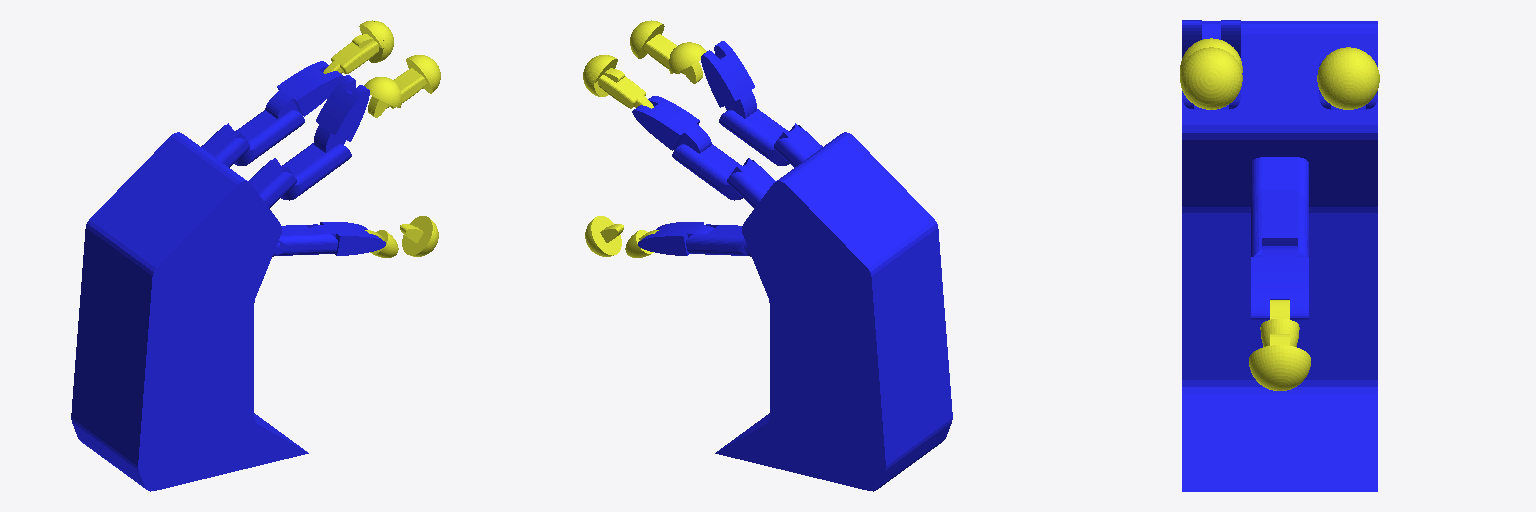
The robot description file, URDF, robot "dexterous":
<?xml version="1.0" encoding="utf-8"?>
<!-- This URDF was automatically created by SolidWorks to URDF Exporter! Originally created by [author] ([email redacted]) 
     Commit Version: 1.6.0-4-g7f85cfe  Build Version: 1.6.7995.38578
     For more information, please see http://wiki.ros.org/sw_urdf_exporter -->
<robot
  name="dexterous">
  <link
    name="base_link">
    <inertial>
      <origin
        xyz="-0.0957355123457233 -9.33844645680804E-05 0.454079173572236"
        rpy="0 0 0" />
      <mass
        value="225.175136389995" />
      <inertia
        ixx="23.9107053609577"
        ixy="0.019113829505406"
        ixz="-2.38705549230706"
        iyy="24.277742757271"
        iyz="0.0443441796689224"
        izz="9.91091787540998" />
    </inertial>
    <visual>
      <origin
        xyz="0 0 0"
        rpy="0 0 0" />
      <geometry>
        <mesh
          filename="package://dexterous/meshes/base_link.STL" />
      </geometry>
      <material
        name="">
        <color
          rgba="0.188235294117647 0.203921568627451 1 1" />
      </material>
    </visual>
    <collision>
      <origin
        xyz="0 0 0"
        rpy="0 0 0" />
      <geometry>
        <mesh
          filename="package://dexterous/meshes/base_link.STL" />
      </geometry>
    </collision>
  </link>
  <link
    name="finger_1">
    <inertial>
      <origin
        xyz="0.058211400276605 3.76936423740482E-08 8.73444794269318E-08"
        rpy="0 0 0" />
      <mass
        value="2.62291217240702" />
      <inertia
        ixx="0.0059915016755219"
        ixy="2.23180711965421E-08"
        ixz="1.35200392851684E-08"
        iyy="0.0153590445392389"
        iyz="-1.69514000170245E-07"
        izz="0.0188065584655924" />
    </inertial>
    <visual>
      <origin
        xyz="0 0 0"
        rpy="0 0 0" />
      <geometry>
        <mesh
          filename="package://dexterous/meshes/finger_1.STL" />
      </geometry>
      <material
        name="">
        <color
          rgba="0.188235294117647 0.203921568627451 1 1" />
      </material>
    </visual>
    <collision>
      <origin
        xyz="0 0 0"
        rpy="0 0 0" />
      <geometry>
        <mesh
          filename="package://dexterous/meshes/finger_1.STL" />
      </geometry>
    </collision>
  </link>
  <joint
    name="fin1"
    type="revolute">
    <origin
      xyz="0.292117822710978 0.175 1.14406683612052"
      rpy="-3.14159265358979 -0.434081521732677 0" />
    <parent
      link="base_link" />
    <child
      link="finger_1" />
    <axis
      xyz="0 0 1" />
    <limit
      lower="-1"
      upper="1"
      effort="0"
      velocity="0" />
  </joint>
  <link
    name="finger_1_1">
    <inertial>
      <origin
        xyz="0.109229658566421 -1.08218189409648E-07 2.77427967543264E-07"
        rpy="0 0 0" />
      <mass
        value="2.39969201778968" />
      <inertia
        ixx="0.00501927352597898"
        ixy="-1.63973205559399E-08"
        ixz="-2.28348034184707E-08"
        iyy="0.0157115159697322"
        iyz="1.57050948514169E-09"
        izz="0.0126581692982653" />
    </inertial>
    <visual>
      <origin
        xyz="0 0 0"
        rpy="0 0 0" />
      <geometry>
        <mesh
          filename="package://dexterous/meshes/finger_1_1.STL" />
      </geometry>
      <material
        name="">
        <color
          rgba="0.188235294117647 0.203921568627451 1 1" />
      </material>
    </visual>
    <collision>
      <origin
        xyz="0 0 0"
        rpy="0 0 0" />
      <geometry>
        <mesh
          filename="package://dexterous/meshes/finger_1_1.STL" />
      </geometry>
    </collision>
  </link>
  <joint
    name="fin1_1"
    type="revolute">
    <origin
      xyz="0.179528059776071 0 0"
      rpy="-1.5707963267949 0 0" />
    <parent
      link="finger_1" />
    <child
      link="finger_1_1" />
    <axis
      xyz="-5.91557224570015E-05 0 -0.999999998211192" />
    <limit
      lower="0"
      upper="1.65"
      effort="0"
      velocity="0" />
  </joint>
  <link
    name="finger_1_1_1">
    <inertial>
      <origin
        xyz="0.180465436095979 -4.34883250521878E-08 4.23646132619027E-08"
        rpy="0 0 0" />
      <mass
        value="1.9242557493213" />
      <inertia
        ixx="0.00352221462280165"
        ixy="1.53025432666088E-08"
        ixz="2.34602653598481E-08"
        iyy="0.0122191473111296"
        iyz="-6.31477478167242E-10"
        izz="0.0117365284602967" />
    </inertial>
    <visual>
      <origin
        xyz="0 0 0"
        rpy="0 0 0" />
      <geometry>
        <mesh
          filename="package://dexterous/meshes/finger_1_1_1.STL" />
      </geometry>
      <material
        name="">
        <color
          rgba="0.929 0.953 0.251 1" />
      </material>
    </visual>
    <collision>
      <origin
        xyz="0 0 0"
        rpy="0 0 0" />
      <geometry>
        <mesh
          filename="package://dexterous/meshes/finger_1_1_1.STL" />
      </geometry>
    </collision>
  </link>
  <joint
    name="fin1_1_1"
    type="revolute">
    <origin
      xyz="0.235471940223928 0 0"
      rpy="3.14159265358979 0 0" />
    <parent
      link="finger_1_1" />
    <child
      link="finger_1_1_1" />
    <axis
      xyz="5.91557224571689E-05 0 0.999999998211192" />
    <limit
      lower="0"
      upper="2"
      effort="0"
      velocity="0" />
  </joint>
  <link
    name="finger_1_eef">
    <inertial>
      <origin
        xyz="-0.0245345639040211 4.23646132619027E-08 4.34883247191209E-08"
        rpy="0 0 0" />
      <mass
        value="1.9242557493213" />
      <inertia
        ixx="0.00352221462280165"
        ixy="2.34602653599029E-08"
        ixz="-1.53025432646572E-08"
        iyy="0.0117365284602967"
        iyz="6.31477478172835E-10"
        izz="0.0122191473111296" />
    </inertial>
    <visual>
      <origin
        xyz="0 0 0"
        rpy="0 0 0" />
      <geometry>
        <mesh
          filename="package://dexterous/meshes/finger_1_eef.STL" />
      </geometry>
      <material
        name="">
        <color
          rgba="0.929 0.953 0.251 1" />
      </material>
    </visual>
    <collision>
      <origin
        xyz="0 0 0"
        rpy="0 0 0" />
      <geometry>
        <mesh
          filename="package://dexterous/meshes/finger_1_eef.STL" />
      </geometry>
    </collision>
  </link>
  <joint
    name="fin1_eef"
    type="fixed">
    <origin
      xyz="0.205 0 0"
      rpy="1.5707963267949 0 0" />
    <parent
      link="finger_1_1_1" />
    <child
      link="finger_1_eef" />
    <axis
      xyz="0 0 0" />
  </joint>
  <link
    name="finger_2">
    <inertial>
      <origin
        xyz="0.0582116120903939 1.11964540194798E-07 -3.91548026557054E-07"
        rpy="0 0 0" />
      <mass
        value="2.62290642499631" />
      <inertia
        ixx="0.00599168807900474"
        ixy="3.82927900220961E-08"
        ixz="-4.28218440602646E-08"
        iyy="0.0153587683117724"
        iyz="-1.29684289260522E-07"
        izz="0.0188064358562405" />
    </inertial>
    <visual>
      <origin
        xyz="0 0 0"
        rpy="0 0 0" />
      <geometry>
        <mesh
          filename="package://dexterous/meshes/finger_2.STL" />
      </geometry>
      <material
        name="">
        <color
          rgba="0.188235294117647 0.203921568627451 1 1" />
      </material>
    </visual>
    <collision>
      <origin
        xyz="0 0 0"
        rpy="0 0 0" />
      <geometry>
        <mesh
          filename="package://dexterous/meshes/finger_2.STL" />
      </geometry>
    </collision>
  </link>
  <joint
    name="fin2"
    type="revolute">
    <origin
      xyz="0.338191099465507 0 0.774632196937085"
      rpy="0 0.194237175479863 0" />
    <parent
      link="base_link" />
    <child
      link="finger_2" />
    <axis
      xyz="0 0 1" />
    <limit
      lower="-1"
      upper="1"
      effort="0"
      velocity="0" />
  </joint>
  <link
    name="finger_2_1">
    <inertial>
      <origin
        xyz="0.109230300998187 7.04610364499203E-08 1.17474904248738E-07"
        rpy="0 0 0" />
      <mass
        value="2.39970392286082" />
      <inertia
        ixx="0.00501928955128547"
        ixy="-3.51571049600182E-08"
        ixz="2.25113499508722E-08"
        iyy="0.0157116976495695"
        iyz="8.61359518319559E-10"
        izz="0.0126583385705887" />
    </inertial>
    <visual>
      <origin
        xyz="0 0 0"
        rpy="0 0 0" />
      <geometry>
        <mesh
          filename="package://dexterous/meshes/finger_2_1.STL" />
      </geometry>
      <material
        name="">
        <color
          rgba="0.188235294117647 0.203921568627451 1 1" />
      </material>
    </visual>
    <collision>
      <origin
        xyz="0 0 0"
        rpy="0 0 0" />
      <geometry>
        <mesh
          filename="package://dexterous/meshes/finger_2_1.STL" />
      </geometry>
    </collision>
  </link>
  <joint
    name="fin2_1"
    type="revolute">
    <origin
      xyz="0.179528059776071 0 0"
      rpy="-1.5707963267949 0 0" />
    <parent
      link="finger_2" />
    <child
      link="finger_2_1" />
    <axis
      xyz="0 0 -1" />
    <limit
      lower="0"
      upper="1.65"
      effort="0"
      velocity="0" />
  </joint>
  <link
    name="finger_2_1_1">
    <inertial>
      <origin
        xyz="0.18046559586156 3.01820902159911E-07 -9.74496372485589E-10"
        rpy="0 0 0" />
      <mass
        value="1.92424517665912" />
      <inertia
        ixx="0.0035221963386311"
        ixy="6.17228919889837E-09"
        ixz="6.36595521465759E-09"
        iyy="0.0122189474087319"
        iyz="2.78510539181517E-10"
        izz="0.0117363268700237" />
    </inertial>
    <visual>
      <origin
        xyz="0 0 0"
        rpy="0 0 0" />
      <geometry>
        <mesh
          filename="package://dexterous/meshes/finger_2_1_1.STL" />
      </geometry>
      <material
        name="">
        <color
          rgba="0.929 0.953 0.251 1" />
      </material>
    </visual>
    <collision>
      <origin
        xyz="0 0 0"
        rpy="0 0 0" />
      <geometry>
        <mesh
          filename="package://dexterous/meshes/finger_2_1_1.STL" />
      </geometry>
    </collision>
  </link>
  <joint
    name="fin2_1_1"
    type="revolute">
    <origin
      xyz="0.235471940223929 0 0"
      rpy="3.14159265358979 0 0" />
    <parent
      link="finger_2_1" />
    <child
      link="finger_2_1_1" />
    <axis
      xyz="0 0 1" />
    <limit
      lower="0"
      upper="2"
      effort="0"
      velocity="0" />
  </joint>
  <link
    name="finger_2_eef">
    <inertial>
      <origin
        xyz="-0.0245344041384397 -9.74496372485589E-10 -3.01820902159911E-07"
        rpy="0 0 0" />
      <mass
        value="1.92424517665912" />
      <inertia
        ixx="0.0035221963386311"
        ixy="6.36595521587555E-09"
        ixz="-6.17228919651313E-09"
        iyy="0.0117363268700237"
        iyz="-2.78510539241131E-10"
        izz="0.0122189474087319" />
    </inertial>
    <visual>
      <origin
        xyz="0 0 0"
        rpy="0 0 0" />
      <geometry>
        <mesh
          filename="package://dexterous/meshes/finger_2_eef.STL" />
      </geometry>
      <material
        name="">
        <color
          rgba="0.929 0.953 0.251 1" />
      </material>
    </visual>
    <collision>
      <origin
        xyz="0 0 0"
        rpy="0 0 0" />
      <geometry>
        <mesh
          filename="package://dexterous/meshes/finger_2_eef.STL" />
      </geometry>
    </collision>
  </link>
  <joint
    name="fin2_eef"
    type="fixed">
    <origin
      xyz="0.205 0 0"
      rpy="1.5707963267949 0 0" />
    <parent
      link="finger_2_1_1" />
    <child
      link="finger_2_eef" />
    <axis
      xyz="0 0 0" />
  </joint>
  <link
    name="finger_3">
    <inertial>
      <origin
        xyz="0.0582114002766059 3.76936419854701E-08 8.73444788718203E-08"
        rpy="0 0 0" />
      <mass
        value="2.62291217240701" />
      <inertia
        ixx="0.00599150167552193"
        ixy="2.23180711870918E-08"
        ixz="1.3520039289722E-08"
        iyy="0.015359044539239"
        iyz="-1.69514000165525E-07"
        izz="0.0188065584655925" />
    </inertial>
    <visual>
      <origin
        xyz="0 0 0"
        rpy="0 0 0" />
      <geometry>
        <mesh
          filename="package://dexterous/meshes/finger_3.STL" />
      </geometry>
      <material
        name="">
        <color
          rgba="0.188235294117647 0.203921568627451 1 1" />
      </material>
    </visual>
    <collision>
      <origin
        xyz="0 0 0"
        rpy="0 0 0" />
      <geometry>
        <mesh
          filename="package://dexterous/meshes/finger_3.STL" />
      </geometry>
    </collision>
  </link>
  <joint
    name="fin3"
    type="revolute">
    <origin
      xyz="0.292117822710978 -0.175 1.14406683612052"
      rpy="3.14159265358979 -0.434081521732677 0" />
    <parent
      link="base_link" />
    <child
      link="finger_3" />
    <axis
      xyz="0 0 1" />
    <limit
      lower="-1"
      upper="1"
      effort="0"
      velocity="0" />
  </joint>
  <link
    name="finger_3_1">
    <inertial>
      <origin
        xyz="0.109229658566421 -1.08218189187603E-07 2.77427967598776E-07"
        rpy="0 0 0" />
      <mass
        value="2.39969201778967" />
      <inertia
        ixx="0.00501927352597895"
        ixy="-1.63973205608188E-08"
        ixz="-2.28348034226873E-08"
        iyy="0.0157115159697319"
        iyz="1.570509486711E-09"
        izz="0.0126581692982651" />
    </inertial>
    <visual>
      <origin
        xyz="0 0 0"
        rpy="0 0 0" />
      <geometry>
        <mesh
          filename="package://dexterous/meshes/finger_3_1.STL" />
      </geometry>
      <material
        name="">
        <color
          rgba="0.188235294117647 0.203921568627451 1 1" />
      </material>
    </visual>
    <collision>
      <origin
        xyz="0 0 0"
        rpy="0 0 0" />
      <geometry>
        <mesh
          filename="package://dexterous/meshes/finger_3_1.STL" />
      </geometry>
    </collision>
  </link>
  <joint
    name="fin3_1"
    type="revolute">
    <origin
      xyz="0.179528059776072 0 0"
      rpy="-1.5707963267949 0 0" />
    <parent
      link="finger_3" />
    <child
      link="finger_3_1" />
    <axis
      xyz="0 0 -1" />
    <limit
      lower="0"
      upper="1.65"
      effort="0"
      velocity="0" />
  </joint>
  <link
    name="finger_3_1_1">
    <inertial>
      <origin
        xyz="0.180465436095979 -4.34883247191209E-08 4.23646130398581E-08"
        rpy="0 0 0" />
      <mass
        value="1.92425574932128" />
      <inertia
        ixx="0.0035222146228016"
        ixy="1.53025432575015E-08"
        ixz="2.34602653618709E-08"
        iyy="0.0122191473111295"
        iyz="-6.31477478601333E-10"
        izz="0.0117365284602966" />
    </inertial>
    <visual>
      <origin
        xyz="0 0 0"
        rpy="0 0 0" />
      <geometry>
        <mesh
          filename="package://dexterous/meshes/finger_3_1_1.STL" />
      </geometry>
      <material
        name="">
        <color
          rgba="0.929 0.953 0.251 1" />
      </material>
    </visual>
    <collision>
      <origin
        xyz="0 0 0"
        rpy="0 0 0" />
      <geometry>
        <mesh
          filename="package://dexterous/meshes/finger_3_1_1.STL" />
      </geometry>
    </collision>
  </link>
  <joint
    name="fin3_1_1"
    type="revolute">
    <origin
      xyz="0.235471940223929 0 0"
      rpy="0 0 0" />
    <parent
      link="finger_3_1" />
    <child
      link="finger_3_1_1" />
    <axis
      xyz="0 0 -1" />
    <limit
      lower="0"
      upper="2"
      effort="0"
      velocity="0" />
  </joint>
  <link
    name="finger_3_eef">
    <inertial>
      <origin
        xyz="-0.0245345639040211 4.23646130398581E-08 4.34883247191209E-08"
        rpy="0 0 0" />
      <mass
        value="1.92425574932128" />
      <inertia
        ixx="0.0035222146228016"
        ixy="2.34602653598607E-08"
        ixz="-1.53025432538152E-08"
        iyy="0.0117365284602966"
        iyz="6.31477478427142E-10"
        izz="0.0122191473111295" />
    </inertial>
    <visual>
      <origin
        xyz="0 0 0"
        rpy="0 0 0" />
      <geometry>
        <mesh
          filename="package://dexterous/meshes/finger_3_eef.STL" />
      </geometry>
      <material
        name="">
        <color
          rgba="0.929 0.953 0.251 1" />
      </material>
    </visual>
    <collision>
      <origin
        xyz="0 0 0"
        rpy="0 0 0" />
      <geometry>
        <mesh
          filename="package://dexterous/meshes/finger_3_eef.STL" />
      </geometry>
    </collision>
  </link>
  <joint
    name="fin3_eef"
    type="fixed">
    <origin
      xyz="0.205 0 0"
      rpy="1.5707963267949 0 0" />
    <parent
      link="finger_3_1_1" />
    <child
      link="finger_3_eef" />
    <axis
      xyz="0 0 0" />
  </joint>
</robot>

--- Facts derived from the render (not from the file) ---
3 views of the same robot in one strip: view 1: azimuth 30°, elevation 25°; view 2: azimuth 150°, elevation 25°; view 3: azimuth 270°, elevation 25° (orthographic).
Model dexterous with 13 links and 12 joints (9 revolute, 3 fixed), rooted at base_link, posed every joint at zero.
Links seen in each view (by area): view 1: base_link, finger_3_1, finger_1_1, finger_3, finger_1, finger_2_1, finger_2, finger_1_1_1, finger_3_eef, finger_2_eef, finger_3_1_1, finger_1_eef; view 2: base_link, finger_3_1, finger_1_1, finger_3, finger_1, finger_2_1, finger_2, finger_1_1_1, finger_3_eef, finger_2_eef, finger_3_1_1, finger_1_eef; view 3: base_link, finger_2_1, finger_2, finger_3_eef, finger_2_eef, finger_1_eef, finger_3_1, finger_2_1_1, finger_1_1_1, finger_3_1_1.
Boxes of the visible links, box(x1,y1,x2,y2) form: base_link: box(71, 123, 308, 491); finger_3_1: box(314, 75, 369, 152); finger_1_1: box(265, 61, 344, 119); finger_3: box(281, 143, 351, 200); finger_1: box(234, 110, 304, 165); finger_2_1: box(309, 222, 385, 255); finger_2: box(276, 224, 337, 255); finger_1_1_1: box(323, 20, 393, 73); finger_3_eef: box(369, 55, 440, 111); finger_2_eef: box(400, 216, 438, 256); finger_3_1_1: box(364, 77, 401, 117); finger_1_eef: box(352, 21, 393, 62); base_link: box(715, 123, 952, 491); finger_3_1: box(701, 41, 756, 118); finger_1_1: box(632, 96, 711, 153); finger_3: box(719, 109, 789, 165); finger_1: box(672, 144, 742, 200); finger_2_1: box(638, 222, 714, 255); finger_2: box(686, 224, 747, 255); finger_1_1_1: box(583, 55, 653, 108); finger_3_eef: box(630, 20, 701, 77); finger_2_eef: box(585, 216, 623, 256); finger_3_1_1: box(668, 42, 706, 83); finger_1_eef: box(583, 55, 624, 96); base_link: box(1182, 21, 1377, 491); finger_2_1: box(1251, 246, 1308, 319); finger_2: box(1251, 190, 1308, 256); finger_3_eef: box(1180, 47, 1242, 109); finger_2_eef: box(1249, 334, 1310, 390); finger_1_eef: box(1317, 53, 1379, 109); finger_3_1: box(1182, 20, 1240, 57); finger_2_1_1: box(1260, 300, 1299, 346); finger_1_1_1: box(1317, 47, 1379, 109); finger_3_1_1: box(1180, 38, 1242, 73).
Size in the robot's own frame: 1.43 by 0.5097 by 1.48 metres.
Meshes: 13 distinct files referenced, 13 mesh visuals loaded (13 binary STL).